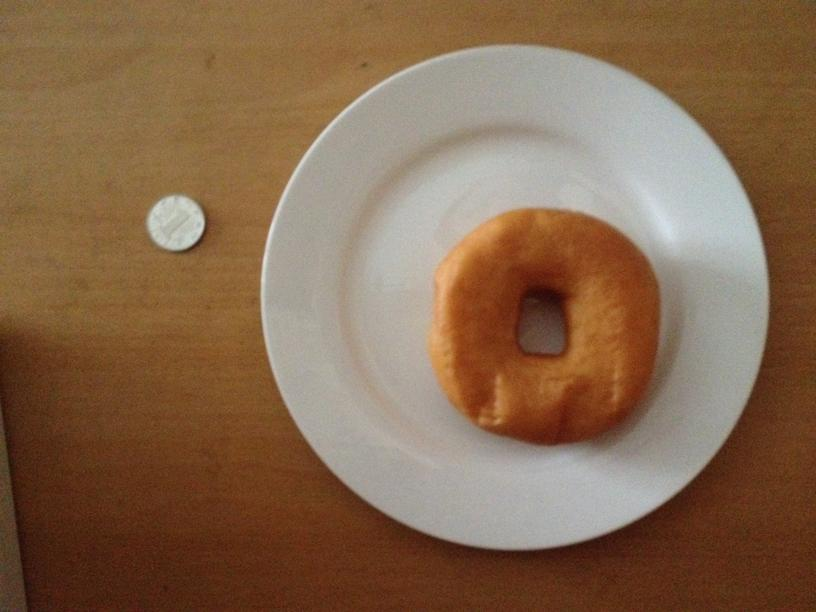coin: (146, 194, 206, 252)
doughnut: (428, 206, 662, 439)
